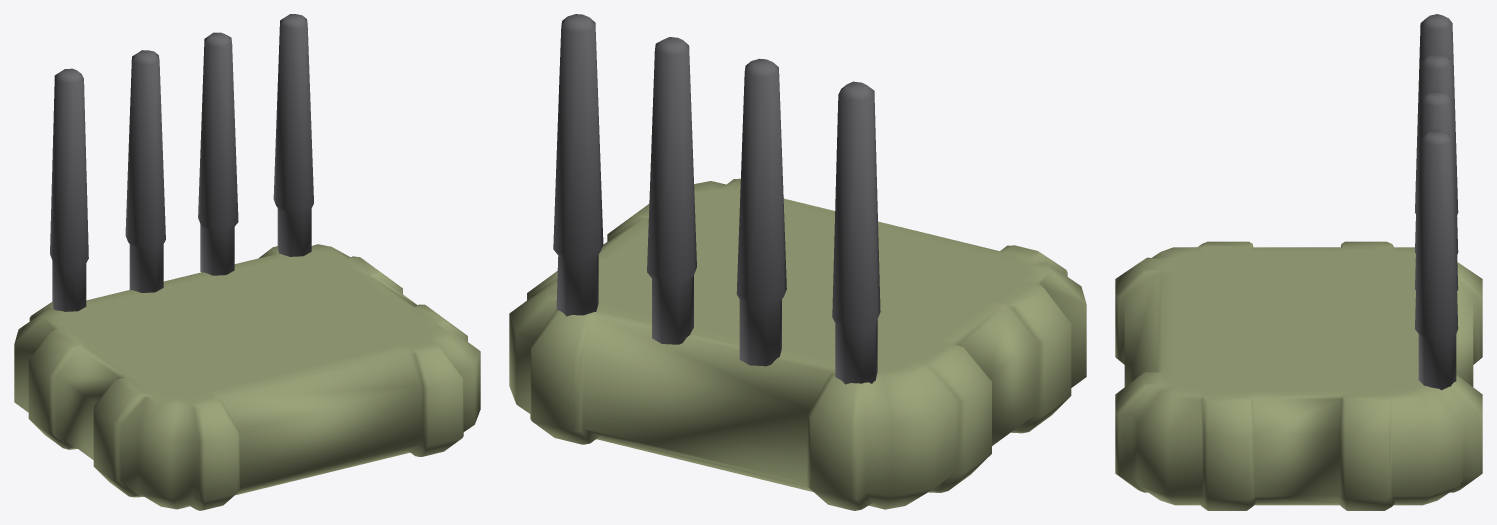
File: radio_scrambler.glb
3 renders of one model, left to right at view 1: azimuth 30°, elevation 25°; view 2: azimuth 150°, elevation 25°; view 3: azimuth 270°, elevation 25°, orthographic. The views are drawn at different scales.
Parts seen in each view (by area): view 1: radio_scrambler; view 2: radio_scrambler; view 3: radio_scrambler.
Part boxes in pixels (x1=…): radio_scrambler: x1=14, y1=14, x2=480, y2=510; radio_scrambler: x1=509, y1=14, x2=1086, y2=510; radio_scrambler: x1=1115, y1=14, x2=1482, y2=510.
Bounding box in the file's own units: 0.1123 × 0.1016 × 0.0952.
